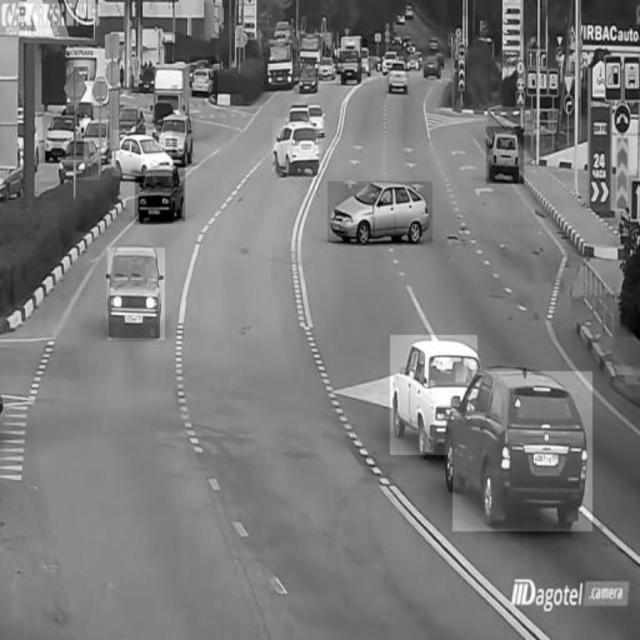vehicle: (453, 372, 593, 532), (390, 335, 478, 455), (327, 182, 431, 243), (108, 247, 165, 339), (135, 160, 185, 221), (112, 130, 173, 176), (272, 119, 322, 174), (487, 127, 524, 184), (43, 113, 84, 160), (267, 29, 299, 86), (161, 114, 196, 164), (61, 141, 101, 181), (299, 36, 324, 93), (339, 40, 369, 82), (191, 57, 218, 99), (387, 57, 409, 92), (420, 48, 445, 78)
